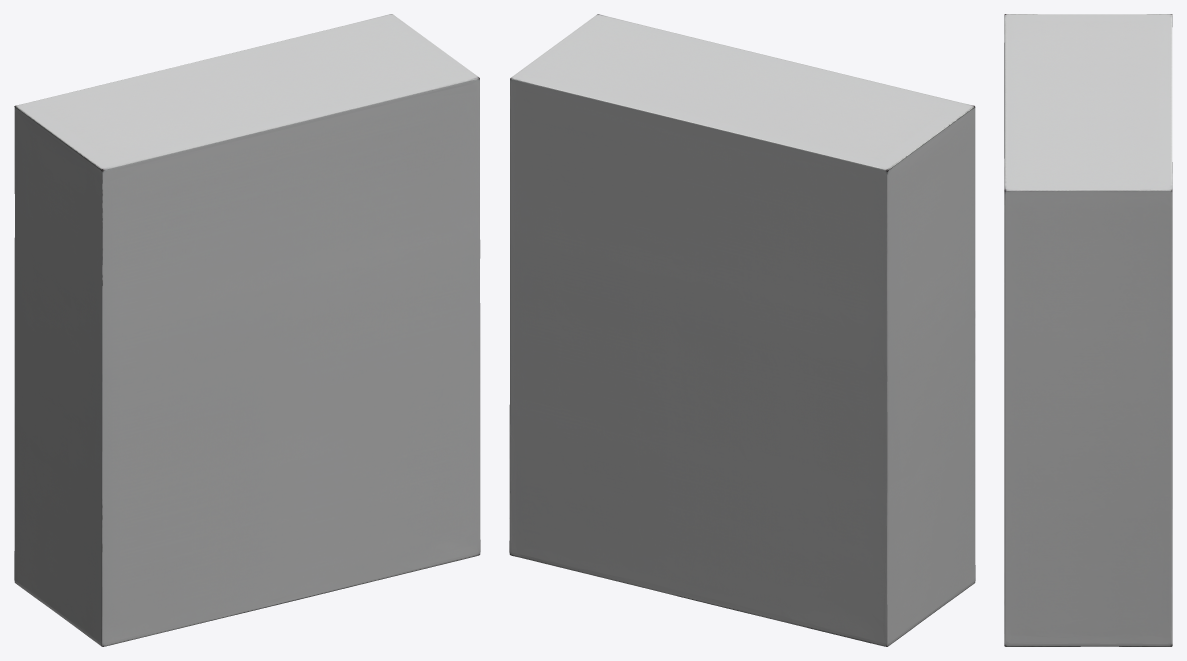
Rendered from recPedestal.glb.
3 views of the same model, side by side, from view 1: azimuth 30°, elevation 25°; view 2: azimuth 150°, elevation 25°; view 3: azimuth 270°, elevation 25° (orthographic). The views are drawn at different scales.
Visible parts, largest first — view 1: world; view 2: world; view 3: world.
Boxes of the visible parts, box(x1,y1,x2,y2) form: world: box(14, 14, 480, 646); world: box(509, 14, 975, 646); world: box(1004, 14, 1172, 646).
Size of the model in its own units: 0.8304 by 1 by 0.3344.
1 material, 1 textured.
